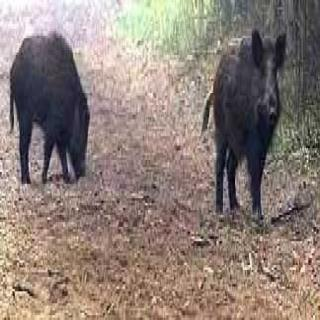Pig: (196, 31, 291, 238), (0, 22, 101, 194)
